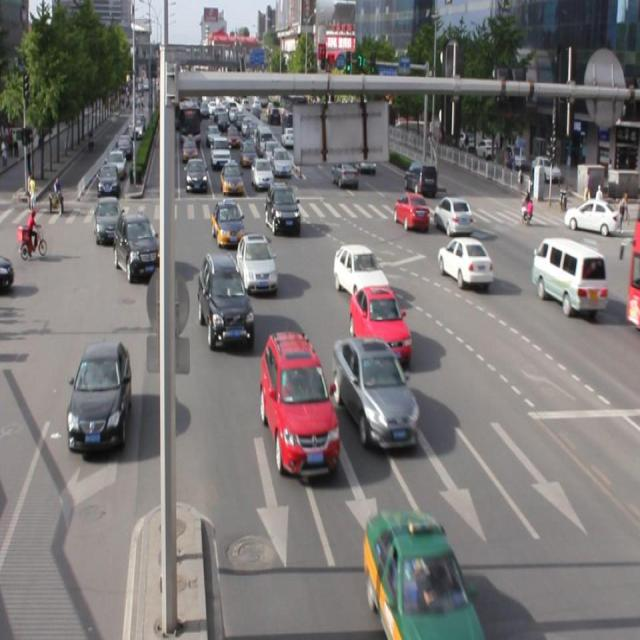car: (363, 512, 482, 640), (260, 329, 339, 478), (332, 335, 420, 447), (66, 340, 131, 452), (197, 250, 254, 350), (350, 284, 411, 368), (114, 208, 162, 281), (333, 241, 390, 301), (437, 236, 492, 286), (236, 232, 278, 294), (210, 198, 247, 248), (432, 195, 472, 235), (392, 192, 429, 229)
truck: (530, 235, 608, 318)
